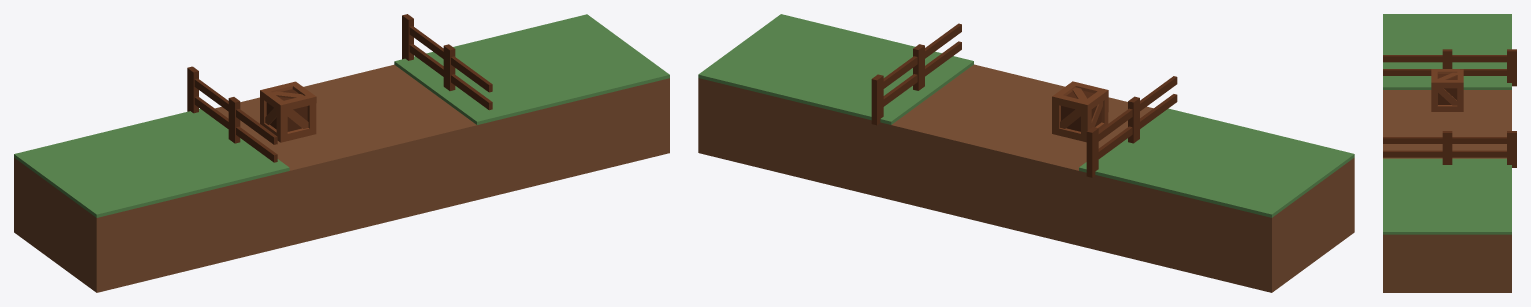
The model's file is chunk-02.obj.
The picture shows the model from 3 angles, left to right: view 1: azimuth 30°, elevation 25°; view 2: azimuth 150°, elevation 25°; view 3: azimuth 270°, elevation 25°; orthographic projection. The views are drawn at different scales.
Visible parts, largest first — view 1: Ground.001, road.003, crate.obj.002, Rails.009, Rails.013; view 2: Ground.001, road.003, crate.obj.002, Rails.013, Rails.009; view 3: road.003, Ground.001, Rails.009, Rails.013, crate.obj.002.
Part boxes in pixels (bbox=[...]): Ground.001: bbox=[14, 64, 669, 292]; road.003: bbox=[14, 14, 669, 217]; crate.obj.002: bbox=[260, 81, 316, 142]; Rails.009: bbox=[402, 14, 492, 110]; Rails.013: bbox=[187, 66, 277, 162]; Ground.001: bbox=[698, 64, 1354, 292]; road.003: bbox=[698, 14, 1354, 217]; crate.obj.002: bbox=[1052, 81, 1108, 142]; Rails.013: bbox=[1086, 76, 1177, 177]; Rails.009: bbox=[871, 23, 961, 125]; road.003: bbox=[1383, 14, 1511, 234]; Ground.001: bbox=[1383, 90, 1511, 292]; Rails.009: bbox=[1383, 131, 1516, 167]; Rails.013: bbox=[1383, 49, 1516, 86]; crate.obj.002: bbox=[1431, 69, 1463, 111].
Size of the model in its own units: 16 by 3.18 by 4.15.
